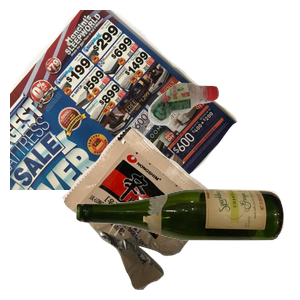glass: (74, 186, 300, 300)
paper: (10, 10, 240, 190)
plastic: (146, 80, 300, 198)
trash: (59, 124, 273, 300)
